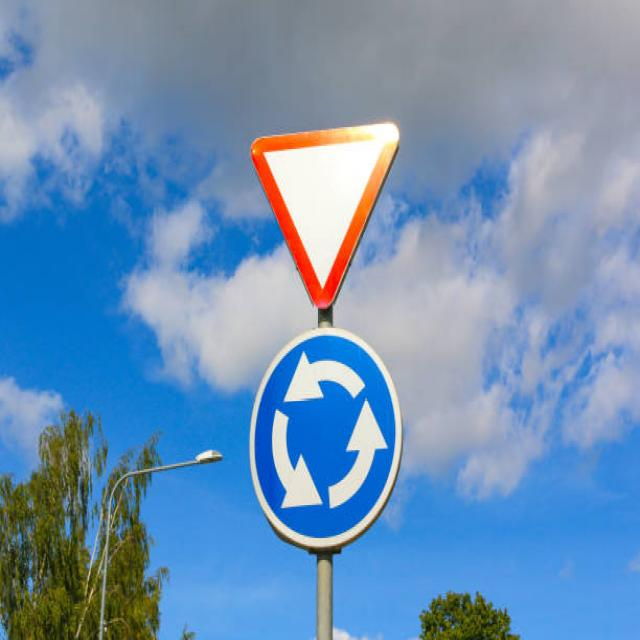give_way: (249, 112, 407, 311)
